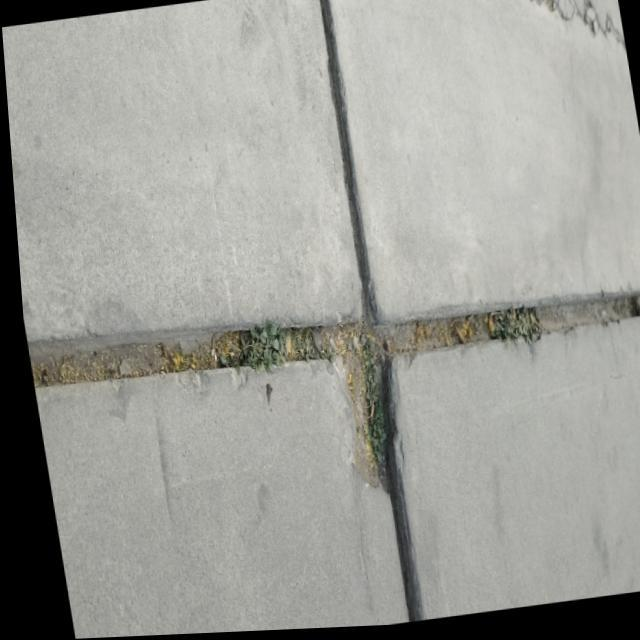hole: (31, 313, 357, 391), (319, 304, 406, 506)
